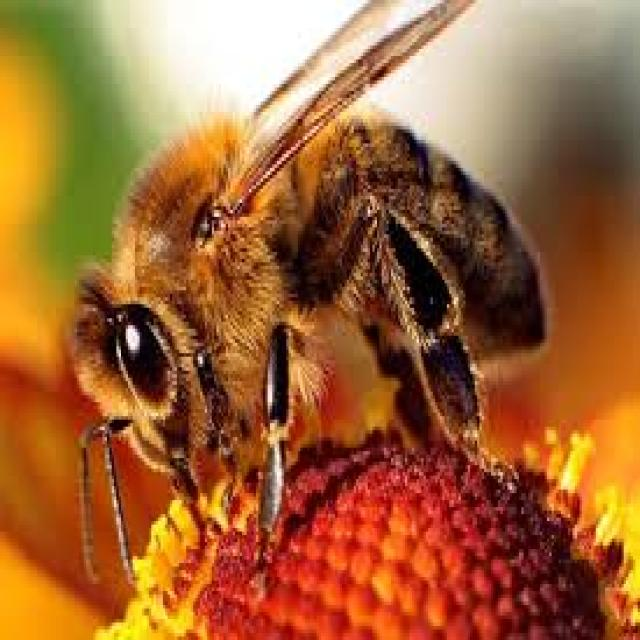Bees: (72, 1, 546, 568)
